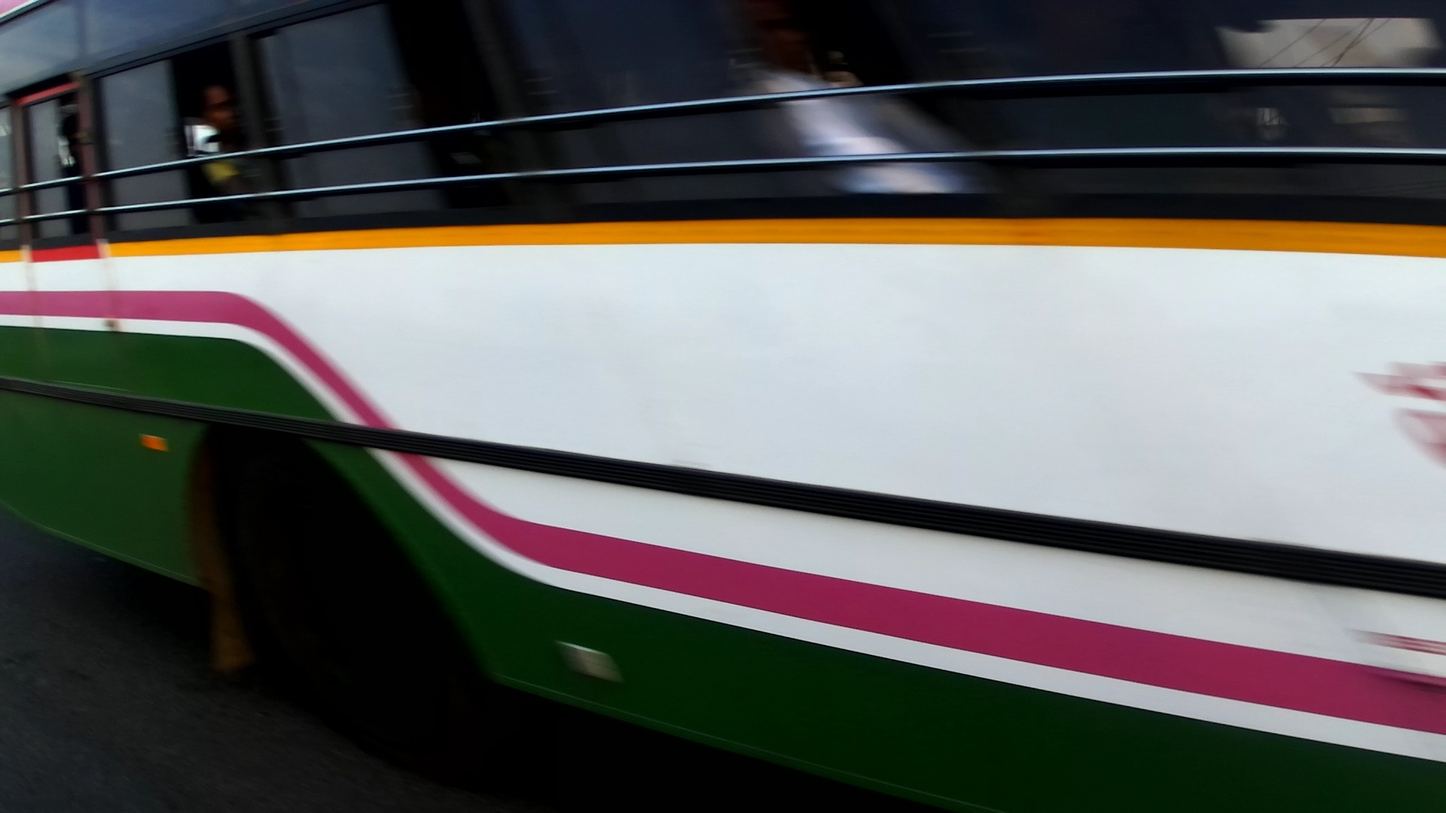bus: (1, 1, 1446, 813)
